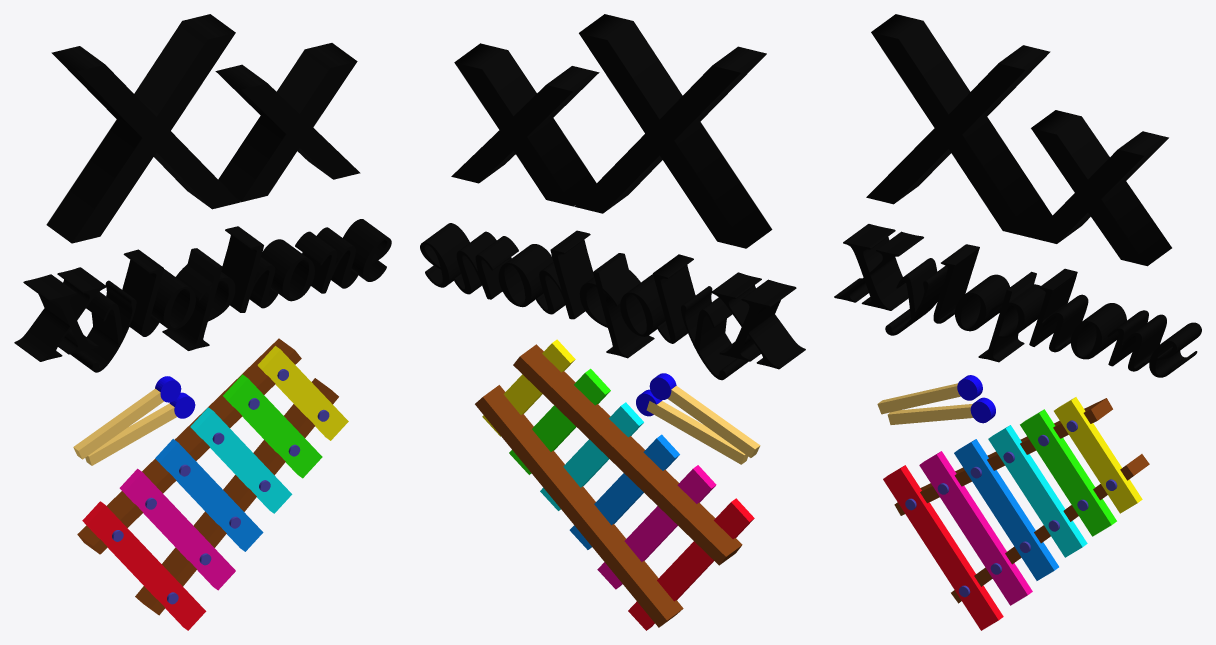
The model's file is Letter_X.glb.
3 renders of one model, left to right at view 1: azimuth 30°, elevation 25°; view 2: azimuth 150°, elevation 25°; view 3: azimuth 330°, elevation 25°, orthographic. The views are drawn at different scales.
Visible parts, largest first — view 1: Text, Text.001, Cube.006, Cube.008, Cube.004, Cube.007, Cube.005, Cube.001, Cube.002, Cube.003, Cube.010, Cube.009; view 2: Text, Text.001, Cube.007, Cube.008, Cube.006, Cube.004, Cube.005, Cube.001, Cube.002, Cube.010, Cube.009, Cube.003; view 3: Text, Text.001, Cube.006, Cube.004, Cube.005, Cube.001, Cube.002, Cube.003, Cube.008, Cube.007, Cube.009, Cube.010 (+1 smaller).
Boxes of the visible parts, box(x1,y1,x2,y2) form: Text: box(46, 14, 360, 243); Text.001: box(14, 219, 391, 372); Cube.006: box(82, 501, 206, 630); Cube.008: box(77, 338, 301, 554); Cube.004: box(119, 468, 235, 590); Cube.007: box(135, 378, 338, 615); Cube.005: box(155, 439, 263, 551); Cube.001: box(223, 374, 322, 478); Cube.002: box(190, 407, 292, 513); Cube.003: box(257, 346, 348, 440); Cube.010: box(73, 388, 163, 459); Cube.009: box(85, 403, 176, 465); Text: box(451, 14, 772, 248); Text.001: box(420, 223, 805, 380); Cube.007: box(475, 385, 683, 627); Cube.008: box(513, 344, 742, 565); Cube.006: box(628, 498, 754, 630); Cube.004: box(597, 465, 716, 589); Cube.005: box(569, 434, 679, 549); Cube.001: box(509, 368, 610, 474); Cube.002: box(540, 402, 643, 510); Cube.010: box(667, 385, 760, 457); Cube.009: box(646, 401, 747, 464); Cube.003: box(482, 339, 575, 436); Text: box(866, 14, 1171, 266); Text.001: box(834, 224, 1201, 377); Cube.006: box(883, 465, 1003, 630); Cube.004: box(919, 451, 1032, 605); Cube.005: box(954, 439, 1058, 580); Cube.001: box(1020, 409, 1116, 536); Cube.002: box(988, 425, 1087, 557); Cube.003: box(1054, 397, 1142, 513); Cube.008: box(894, 398, 1112, 515); Cube.007: box(951, 454, 1149, 603); Cube.009: box(887, 404, 973, 424); Cube.010: box(877, 383, 960, 414).
Bounding box in the file's own units: 0.9558 × 1.52 × 0.1231.
